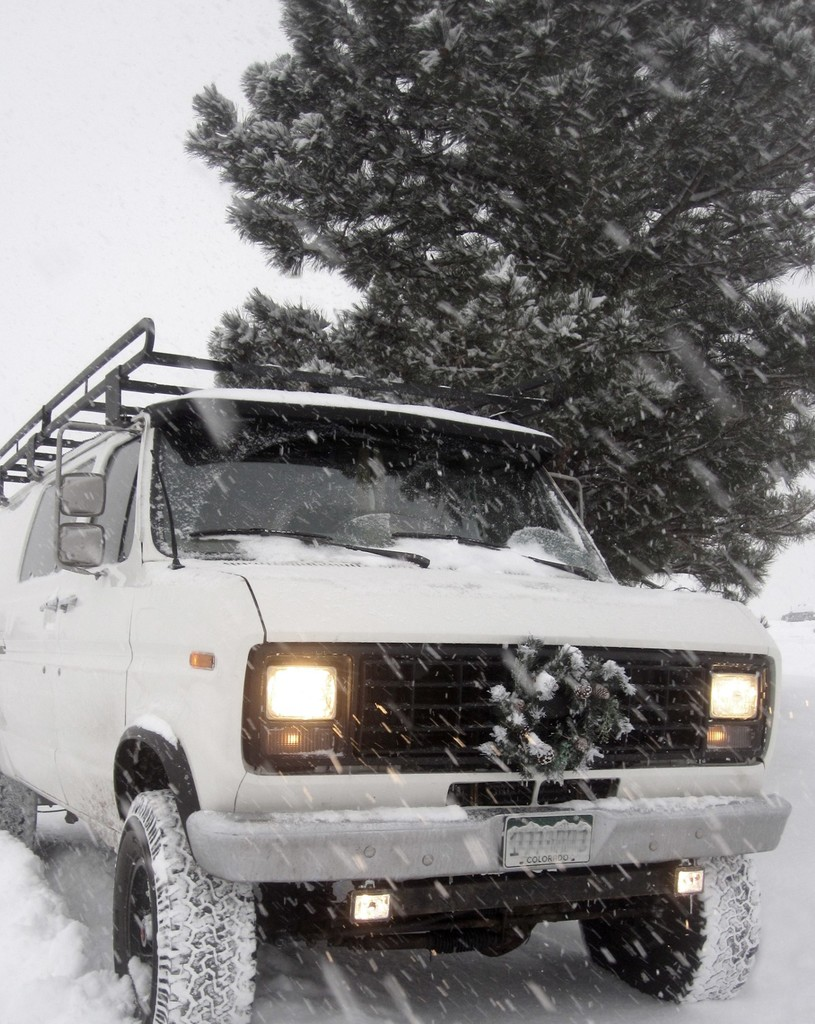Car: (0, 315, 791, 1023)
